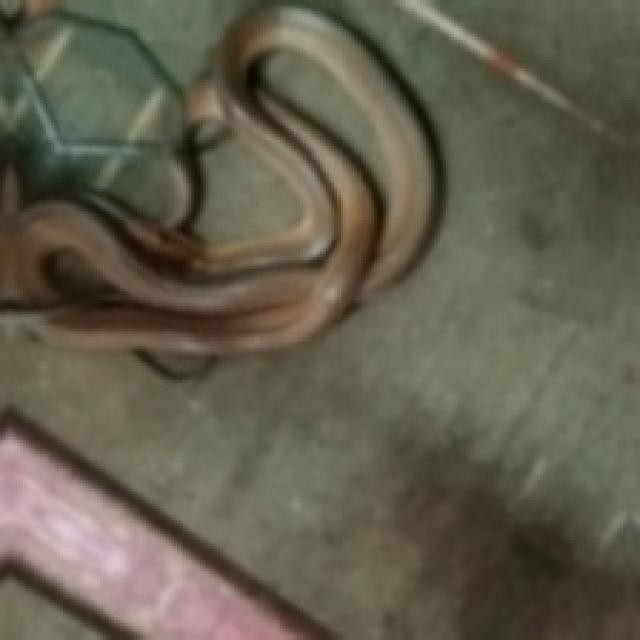red-tailed green ratsnake: (0, 6, 440, 369)
